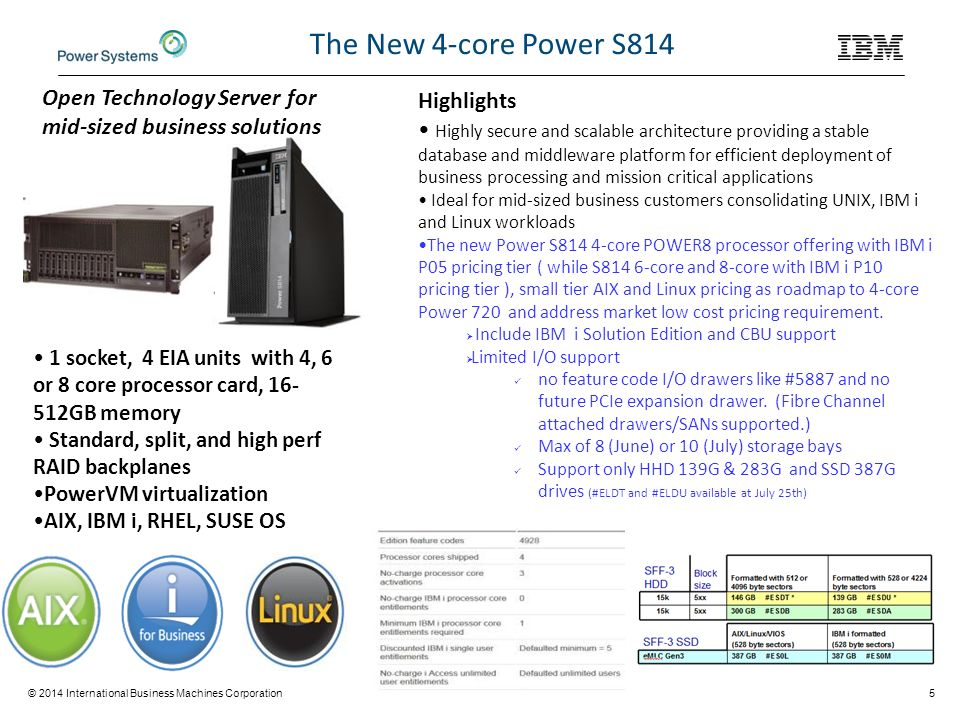ibm-server: (219, 139, 370, 337), (14, 190, 219, 297)
